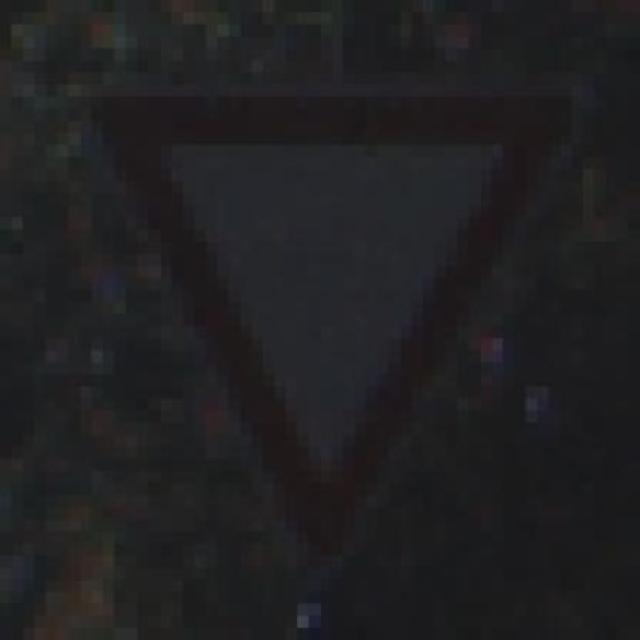Give Way: (57, 60, 606, 592)
